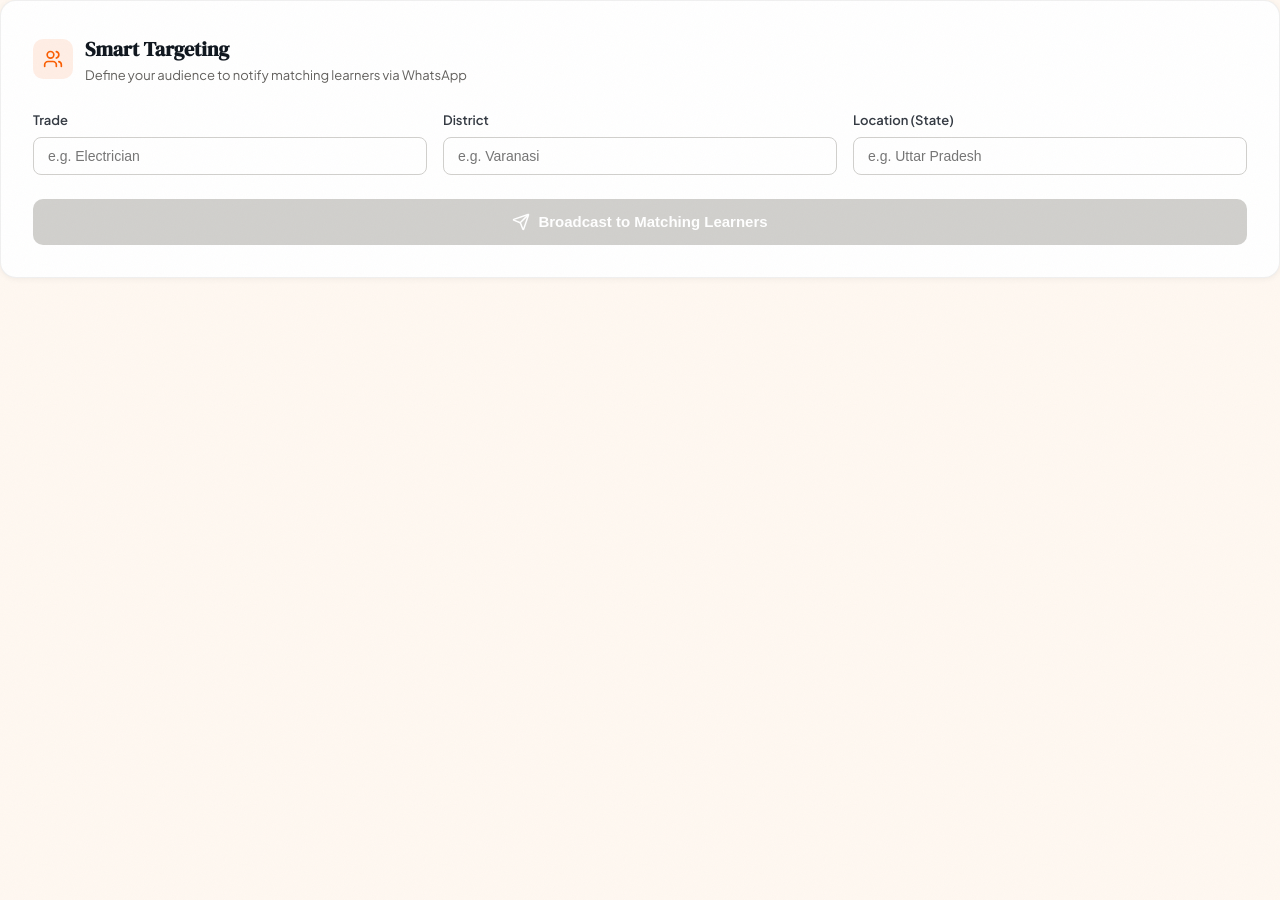
it: SmartTargetingPanel - Success Notification › shows success notification with count after broadcast
# Type to activate filters
Step 1. Type "Fitter" into the field with placeholder "e.g. Electrician" → point(230, 156), box [33, 137, 427, 175]
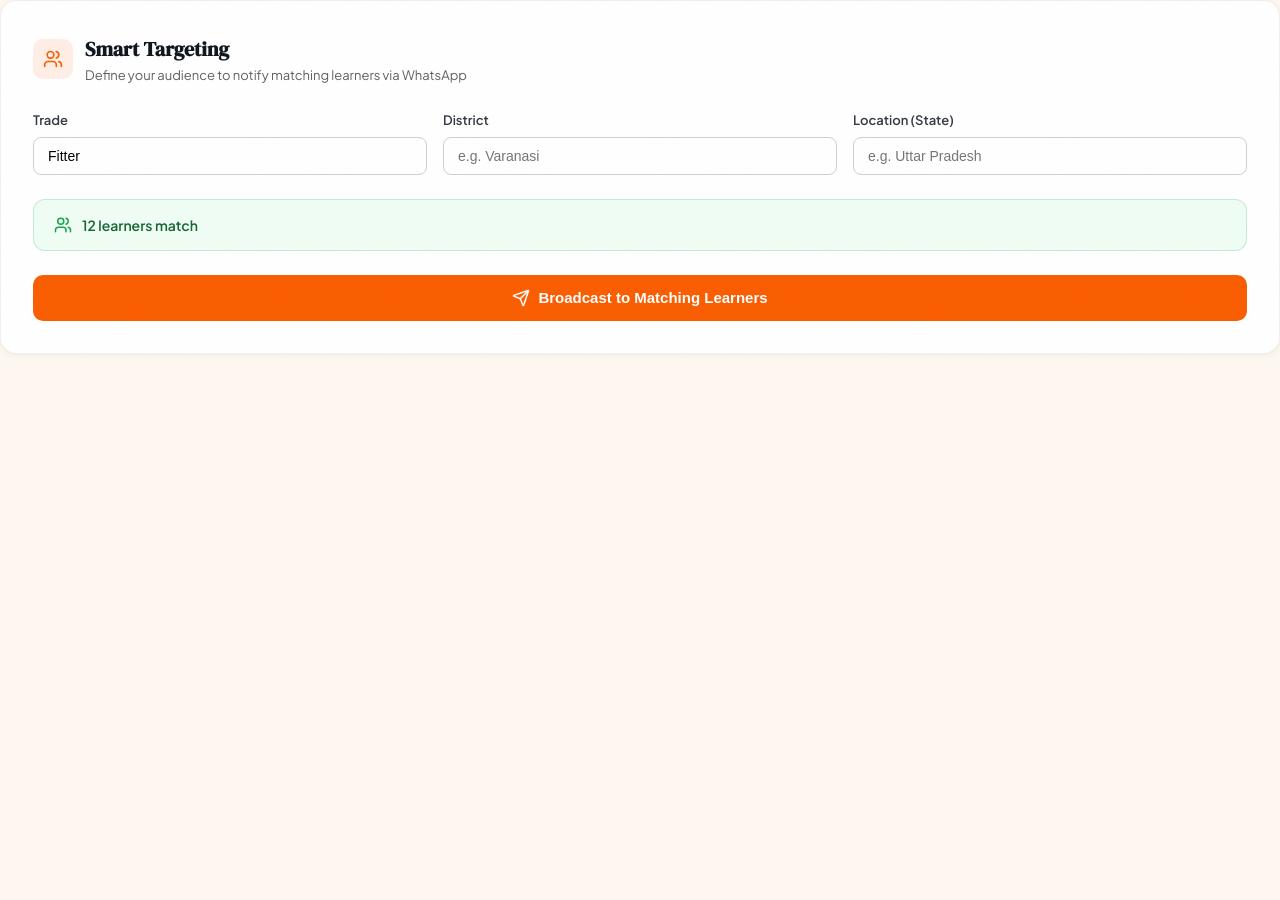
Expected: the text "12 learners match" is shown, [82, 214, 198, 236]
# Click broadcast, then confirm
Step 2. Click the button "Broadcast to Matching Learners" → point(640, 298), box [33, 275, 1247, 321]
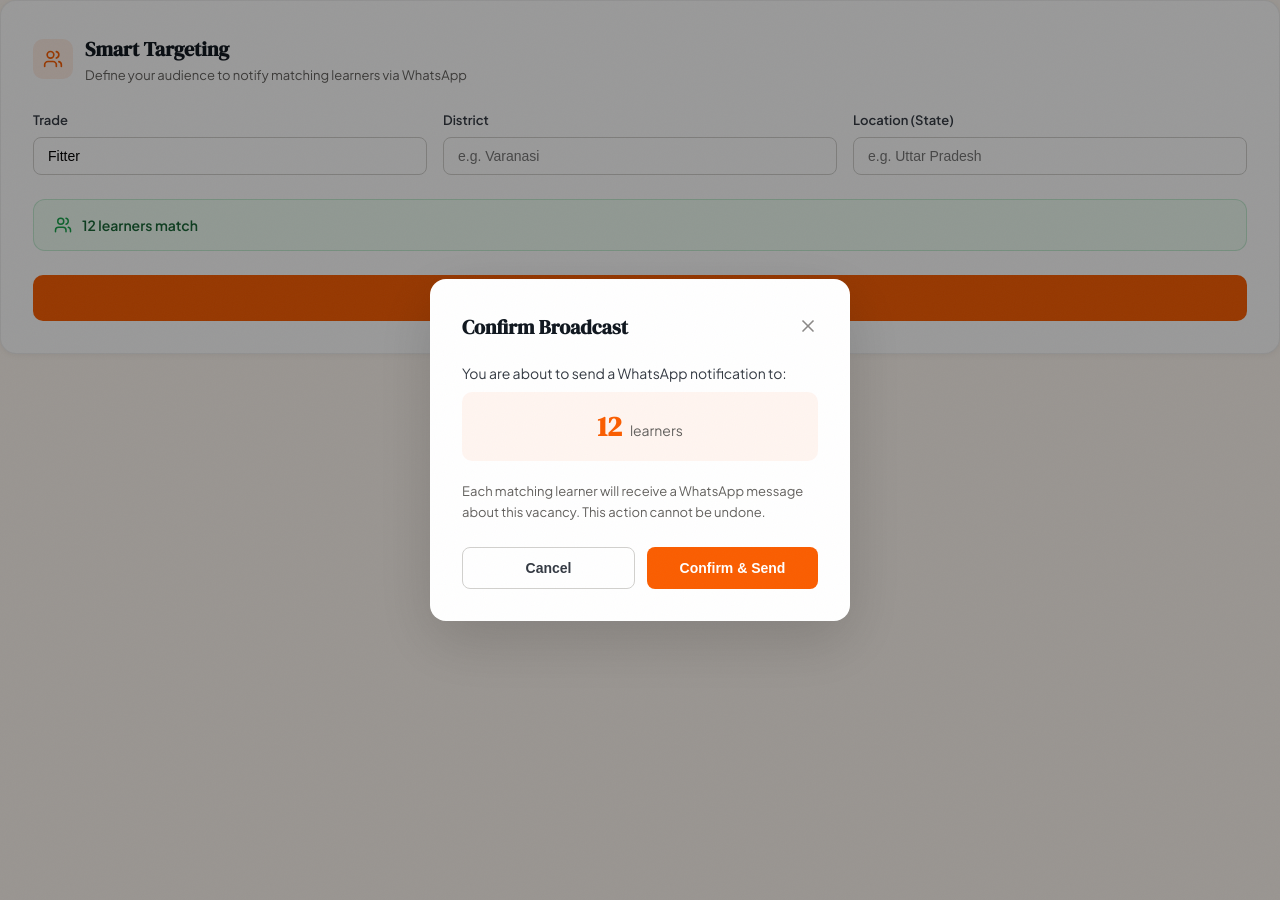
Step 3. Click the button "Confirm & Send" → point(732, 568), box [647, 547, 818, 589]
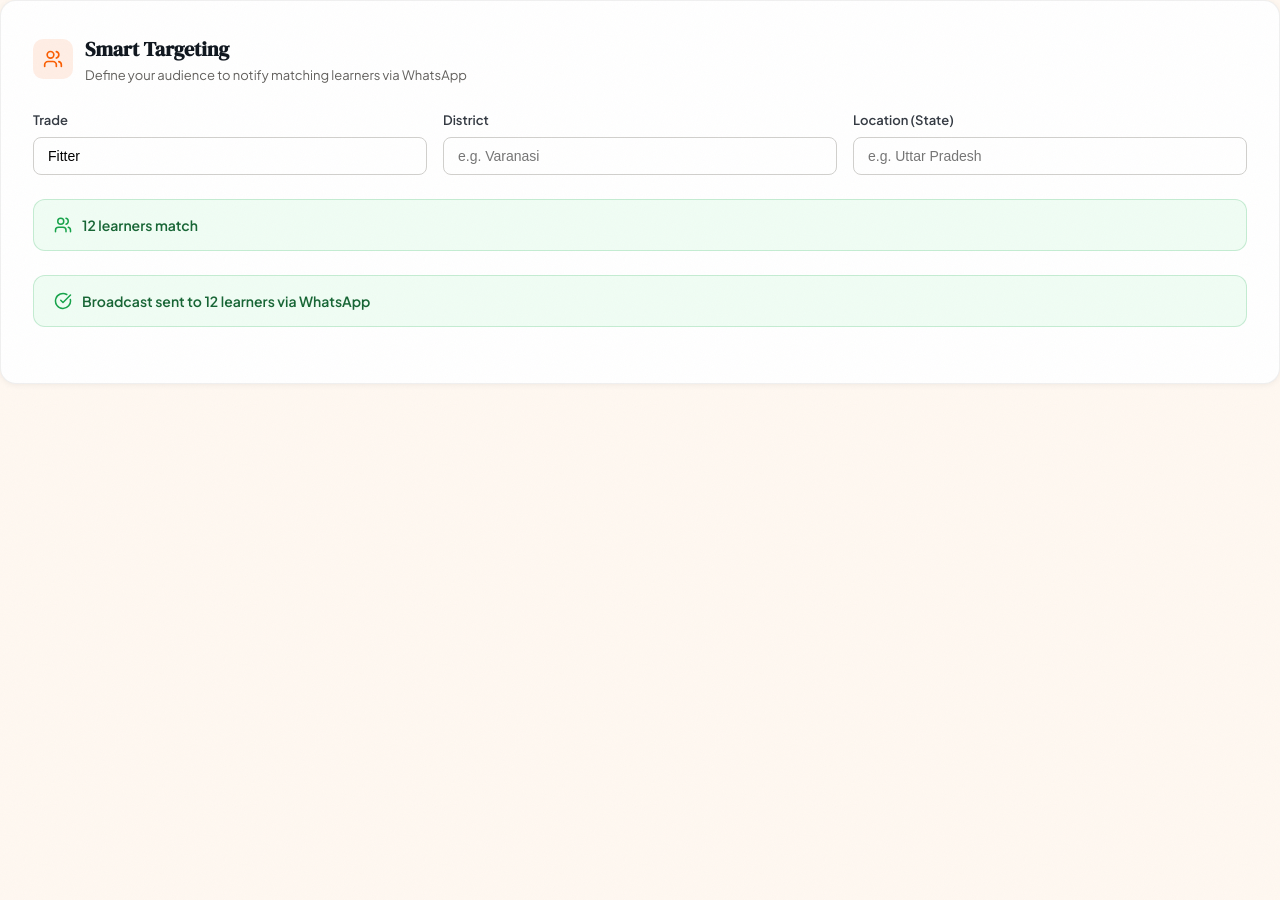
Expected: the text "Broadcast sent to 12 learners via WhatsApp" is shown, [82, 290, 370, 312]
